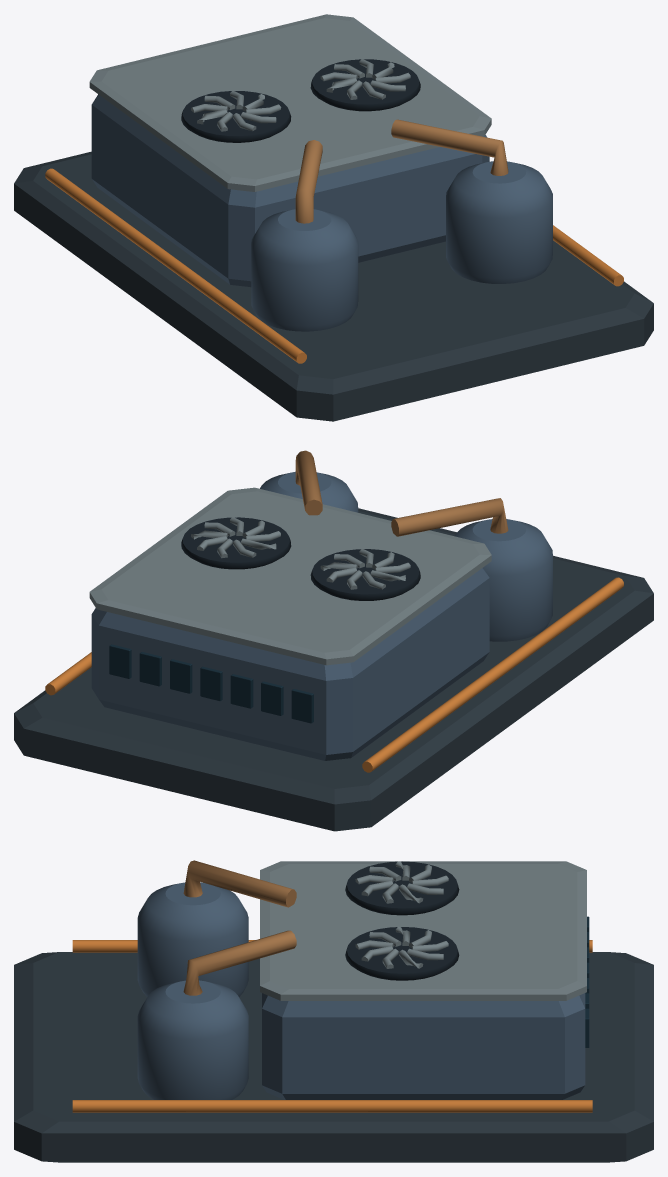
The model's file is canyon_substation.glb.
3 renders of one model, top to bottom at view 1: azimuth 30°, elevation 25°; view 2: azimuth 150°, elevation 25°; view 3: azimuth 270°, elevation 25°, orthographic. The views are drawn at different scales.
Visible parts, largest first — view 1: canyon_substation; view 2: canyon_substation; view 3: canyon_substation.
Boxes of the visible parts, bbox=[...] form: canyon_substation: bbox=[14, 14, 653, 421]; canyon_substation: bbox=[14, 450, 653, 831]; canyon_substation: bbox=[14, 860, 653, 1162].
Bounding box in the file's own units: 8 × 3.47 × 12.
